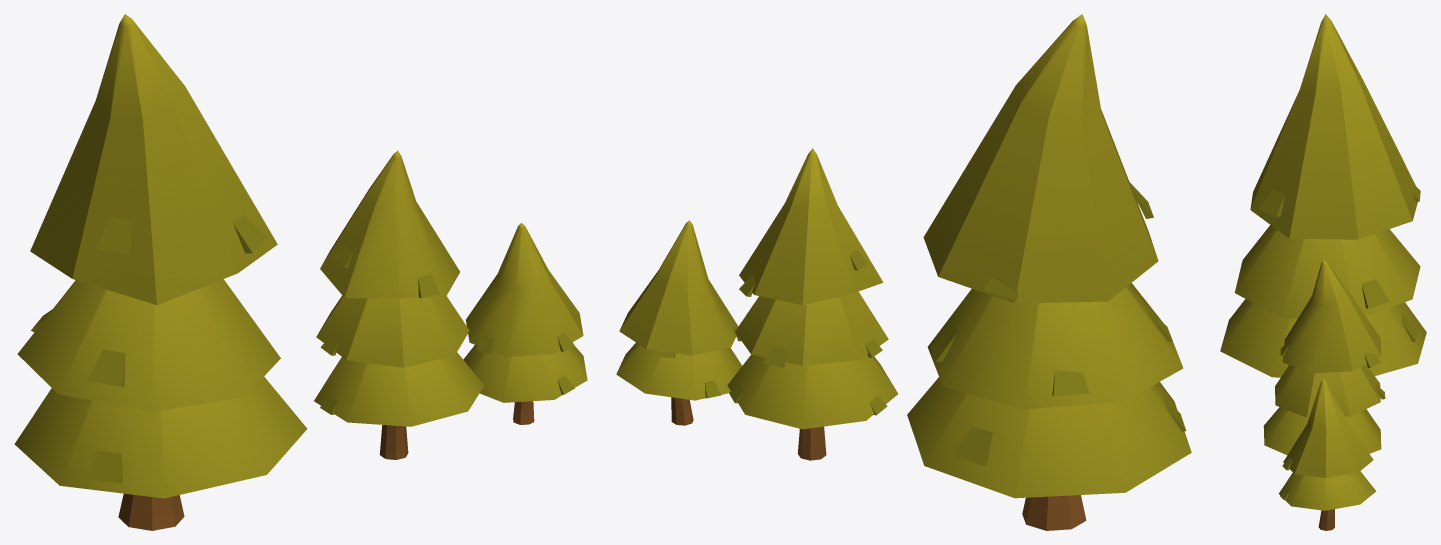
The model's file is Tree.glb.
3 views of the same model, side by side, from view 1: azimuth 30°, elevation 25°; view 2: azimuth 150°, elevation 25°; view 3: azimuth 270°, elevation 25° (orthographic). The views are drawn at different scales.
Visible parts, largest first — view 1: Cylinder.002, Cylinder, Cylinder.001; view 2: Cylinder.002, Cylinder, Cylinder.001; view 3: Cylinder.002, Cylinder, Cylinder.001.
Boxes of the visible parts, <box> form: Cylinder.002: <box>14,14,307,530</box>; Cylinder: <box>314,150,484,459</box>; Cylinder.001: <box>463,223,587,424</box>; Cylinder.002: <box>907,14,1191,530</box>; Cylinder: <box>727,148,897,460</box>; Cylinder.001: <box>616,220,741,425</box>; Cylinder.002: <box>1220,14,1426,377</box>; Cylinder: <box>1263,259,1385,455</box>; Cylinder.001: <box>1279,379,1375,530</box>.
Bounding box in the file's own units: 16.1 × 14.39 × 7.2.
3 materials, 1 textured.
